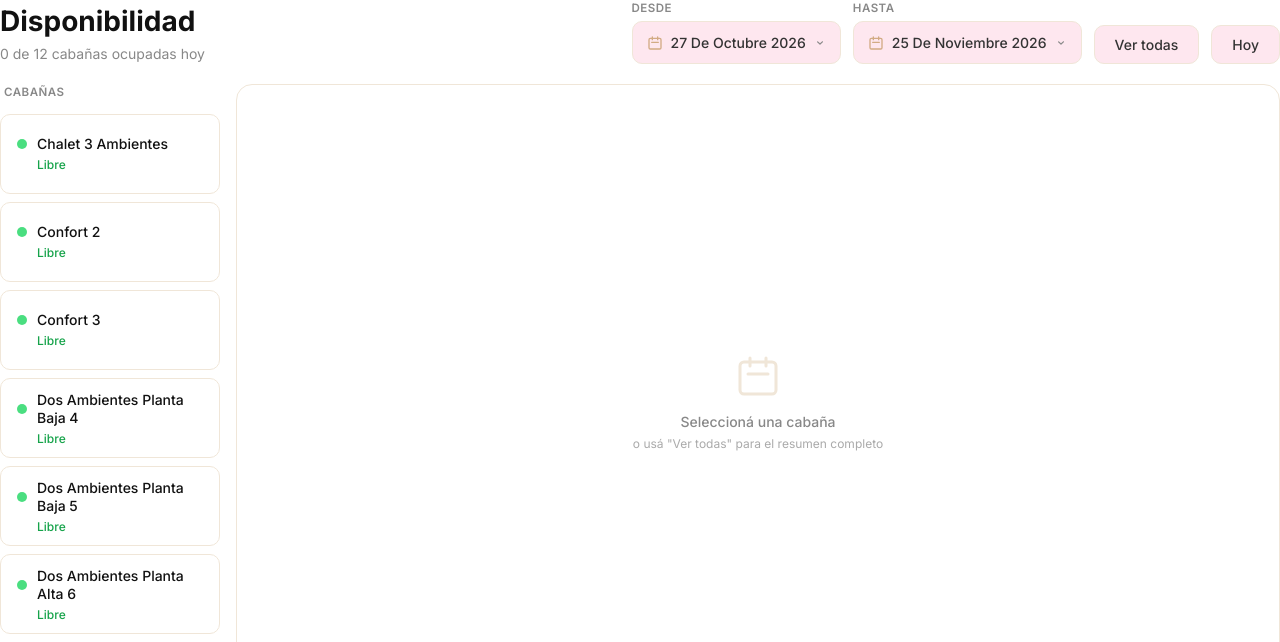
Test: Disponibilidad "Ver todas" — la grilla usa el ancho dinámico de forma consistente (no se desalinea) › el ancho de la columna-esquina sticky coincide exactamente con calcularAnchoColumnaNombres para ese complejo
What coordinates should you click on to do the following:
click the button "Ver todas"
I would click on:
 (1146, 45)
Its box is [1094,25,1199,64].
(page scrolled)
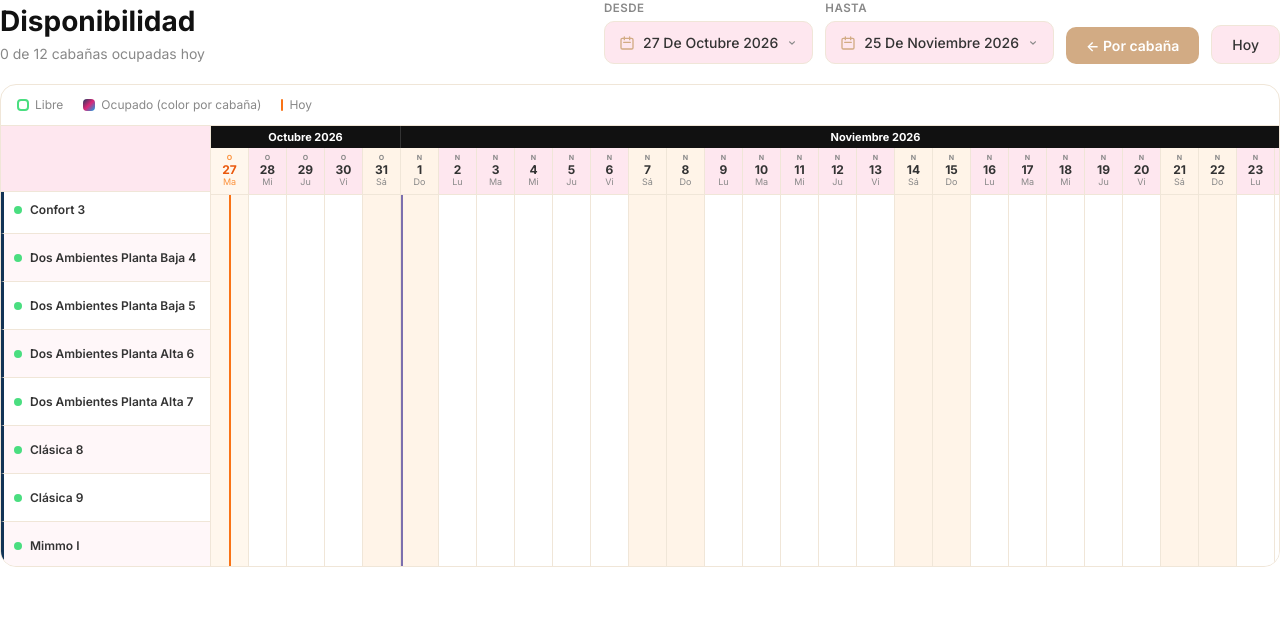
Expected: the text "Libre" is shown, [17,97,63,113]
Expected: the element that starts with "Chalet 3 Ambientes" is shown, [1,126,211,566]
